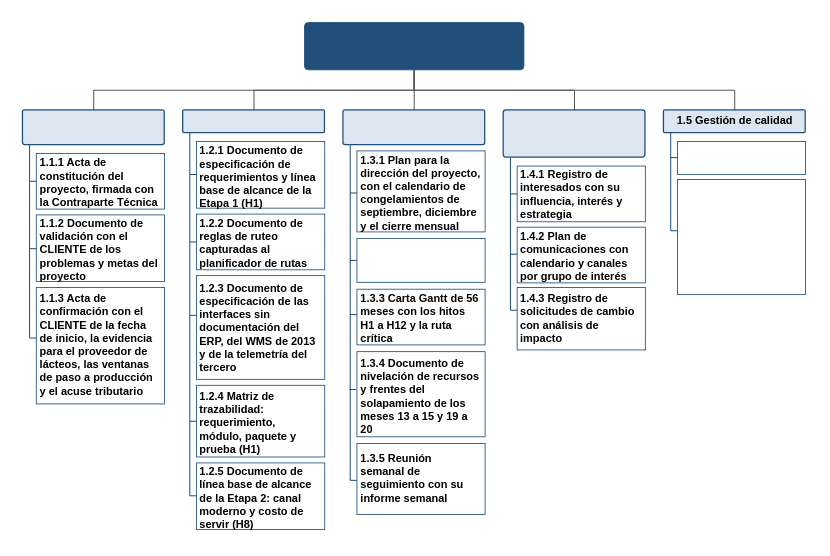
This 830x556 diagram has some shape labels left out. Here are the shapes that lost their labels. From the top down, the centre of each, then its label:
At point 413,46: "1. Inicio".
At point 92,127: "1.1 Definición inicial del proyecto".
At point 252,121: "1.2 Alcance del proyecto".
At point 413,127: "1.3 Planificación del proyecto".
At point 573,133: "1.4 Gestión de interesados y comunicaciones".
At point 740,157: "1.5.1 Plan de calidad y plan de pruebas".
At point 740,236: "1.5.2 Puertas de calidad: lógica 70 %, global 80 % y código modificado 80 %".
At point 420,259: "1.3.2 EDT y diccionario de la EDT (línea base del alcance)".
